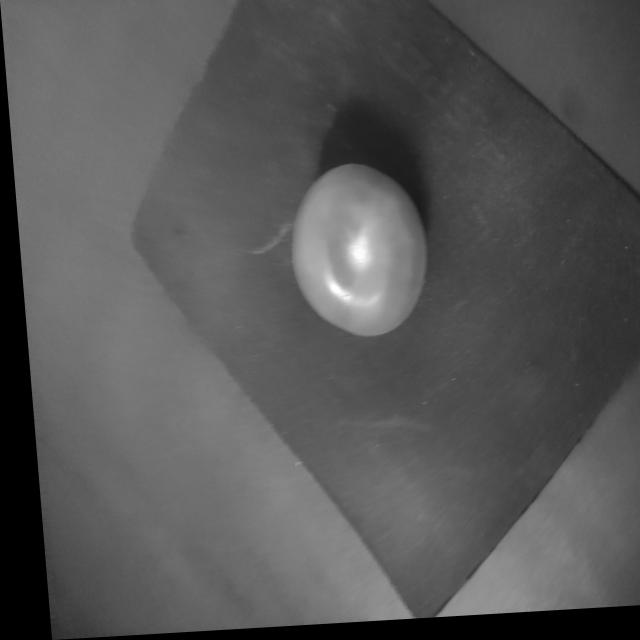sari: (269, 158, 435, 360)
